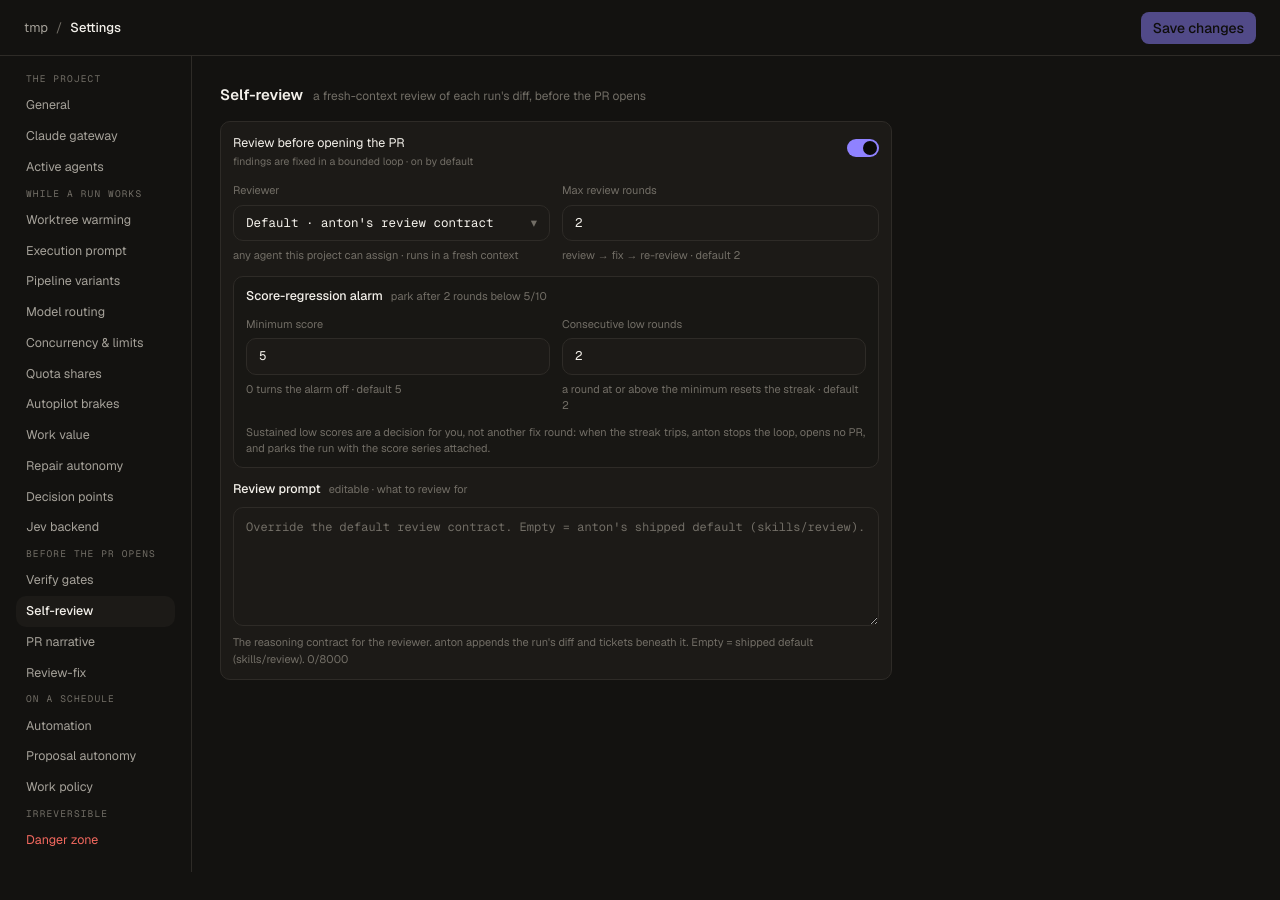
SettingsView self-review section (anton-of1m) › clamps the round cap to [1,5]
Replace the text in the number field labelled "Max review rounds" with "9" at [720, 223], box x1=562 y1=204 x2=879 y2=241
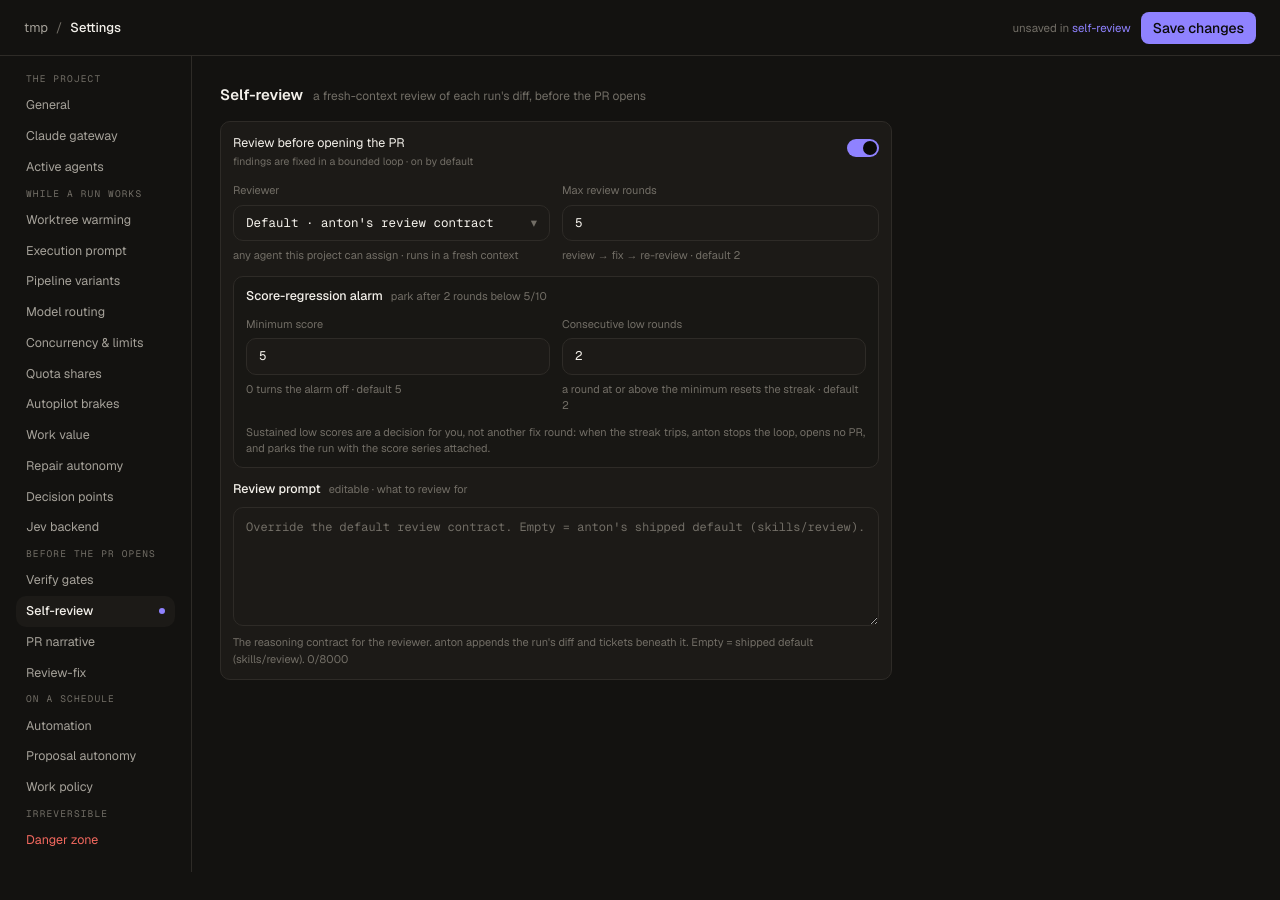
Result: the number field labelled "Max review rounds" holds "5"
Replace the text in the number field labelled "Max review rounds" with "0" at [720, 223], box x1=562 y1=204 x2=879 y2=241
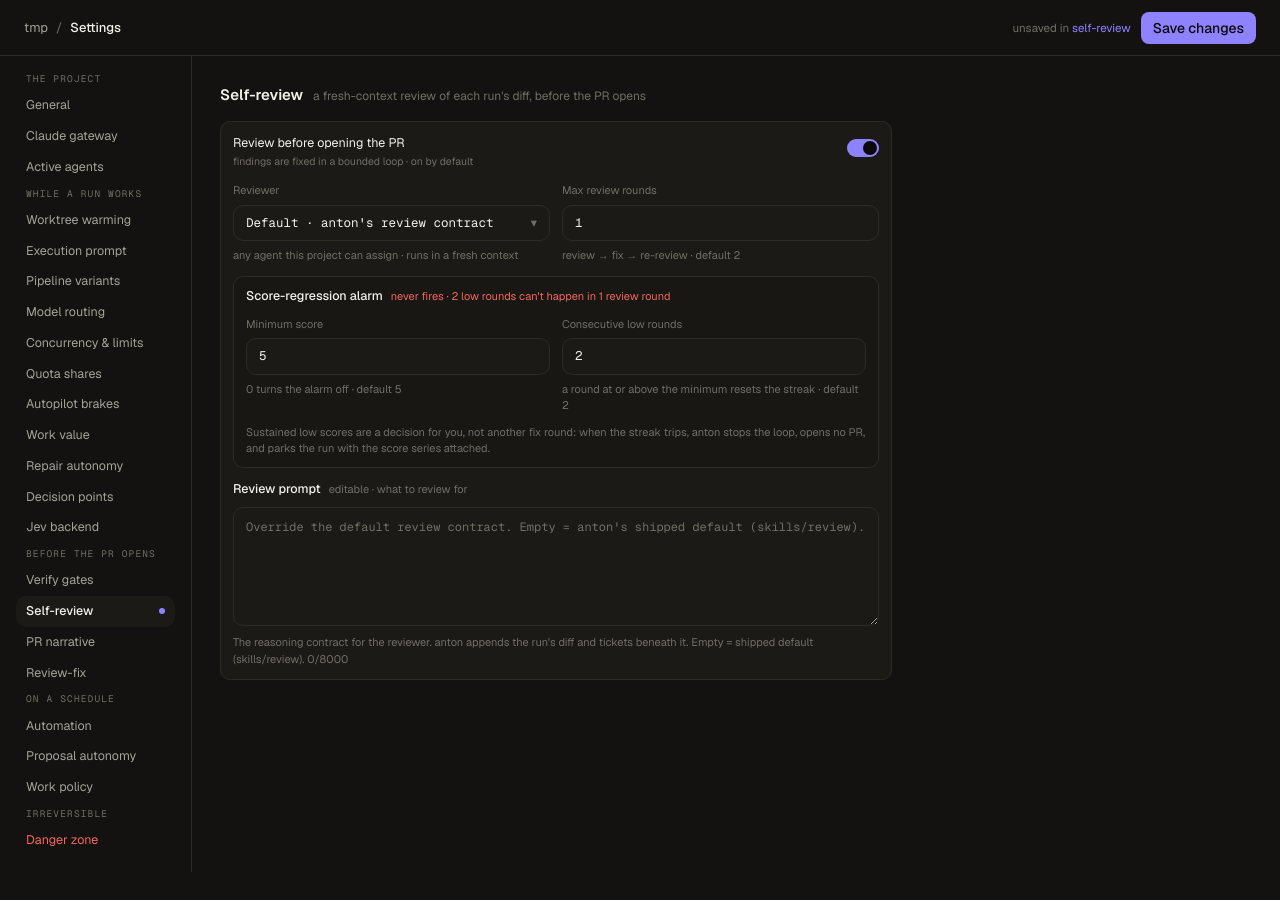
Result: the number field labelled "Max review rounds" holds "1" at x1=562 y1=204 x2=879 y2=241
